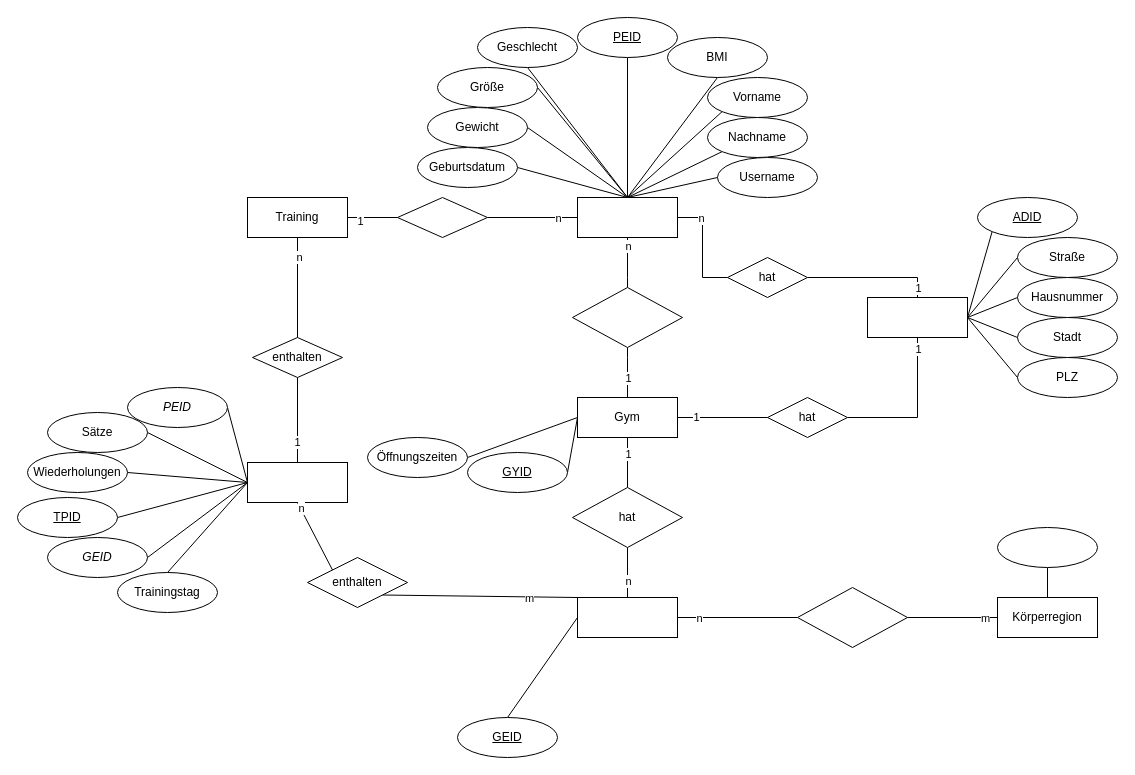
Image size: 1135x775. Some labels were removed from this diagram. The centre of each missing label's shape, as x and y in pixels:
Adresse: pixel 917 317
bestreitet: pixel 442 217
besucht: pixel 627 317
für: pixel 852 617
Gerät: pixel 627 617
KRID: pixel 1047 547
Person: pixel 627 217
Trainingsplan: pixel 297 482
